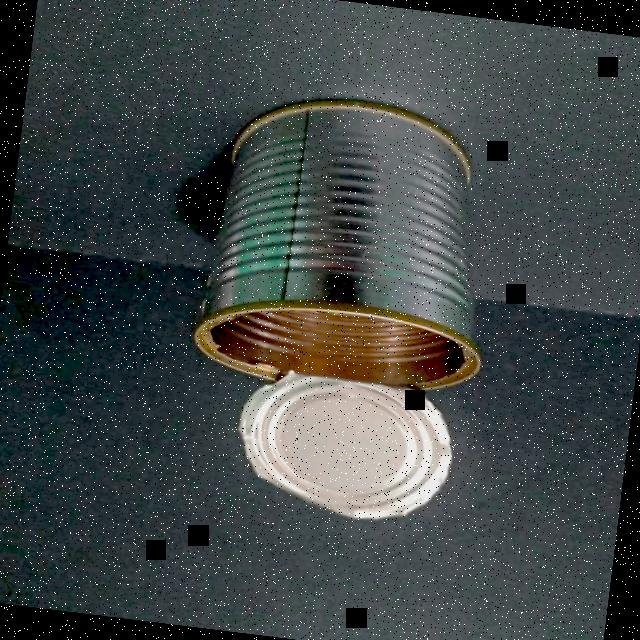can: (170, 83, 514, 538)
